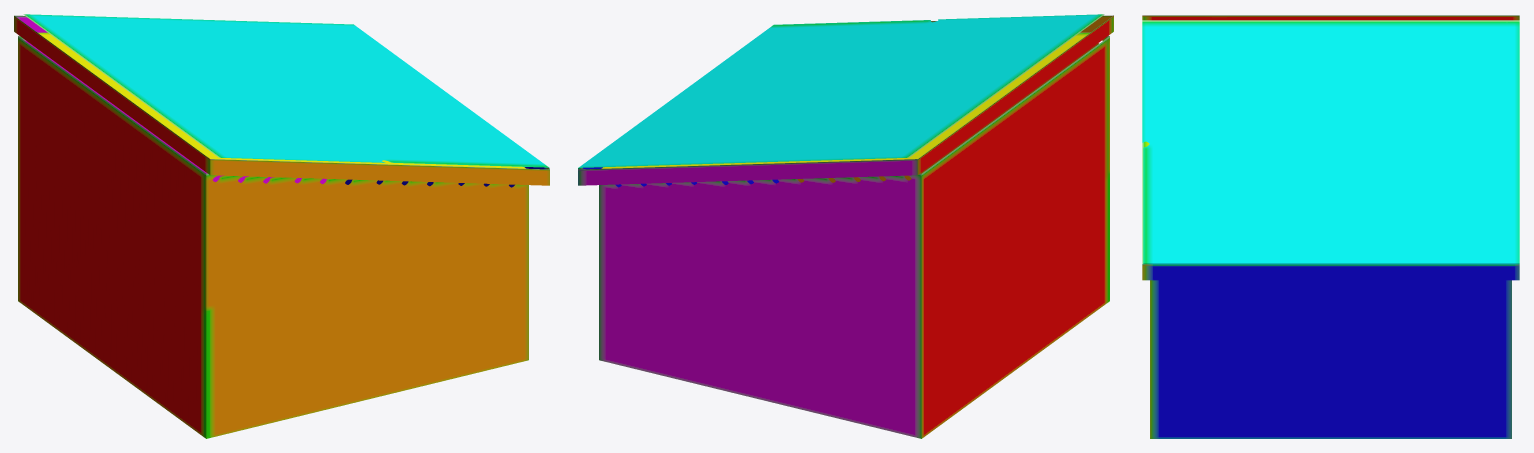
File: house08_01.FBX
3 renders of one model, left to right at view 1: azimuth 30°, elevation 25°; view 2: azimuth 150°, elevation 25°; view 3: azimuth 270°, elevation 25°, orthographic. The views are drawn at different scales.
Visible parts, largest first — view 1: House08_base, House08_roof; view 2: House08_base, House08_roof; view 3: House08_roof, House08_base.
Boxes of the visible parts, left/top/right/bottom form: House08_base: left=18, top=35, right=528, bottom=438; House08_roof: left=14, top=14, right=549, bottom=185; House08_base: left=599, top=35, right=1109, bottom=438; House08_roof: left=578, top=14, right=1113, bottom=185; House08_roof: left=1142, top=15, right=1519, bottom=280; House08_base: left=1150, top=280, right=1511, bottom=438.
Bounding box in the file's own units: 100 × 80 × 100.
Materials: 1 (1 with a texture image).
